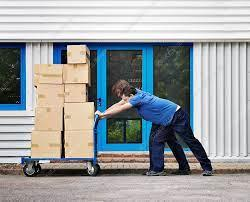Boxes: (66, 131, 94, 158), (32, 132, 62, 156), (65, 106, 94, 130), (36, 106, 63, 131), (37, 85, 65, 106), (34, 66, 63, 85), (65, 63, 90, 85), (62, 84, 88, 105), (66, 45, 88, 66)
